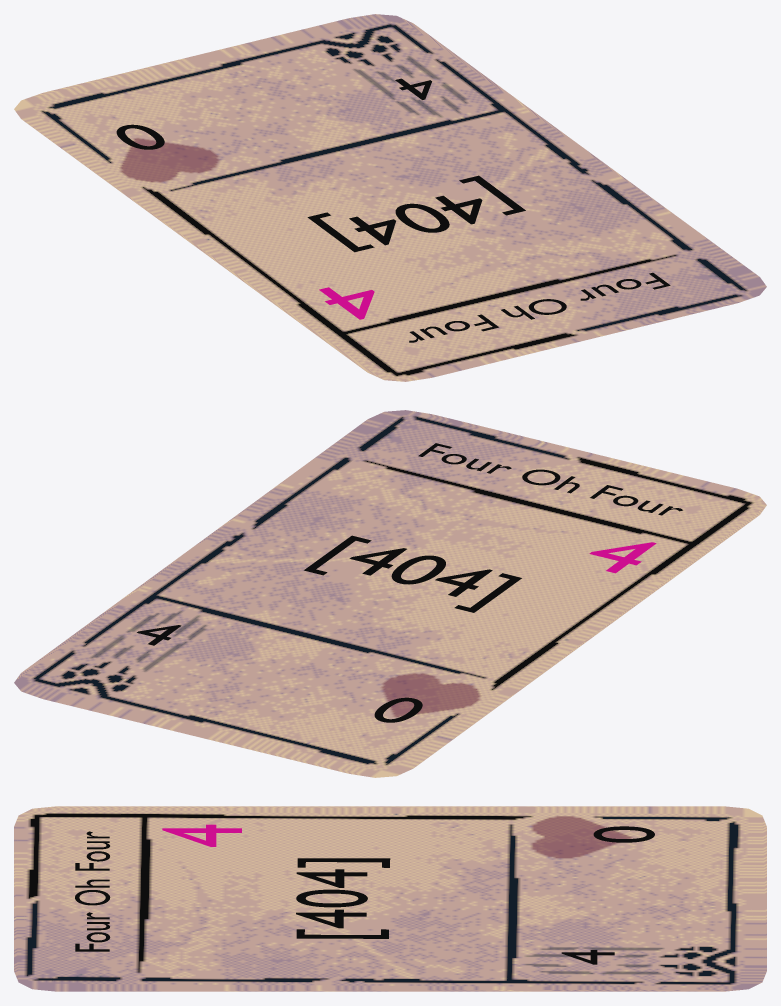
Rendered from FourOhFour.glb.
3 renders of one model, top to bottom at view 1: azimuth 30°, elevation 25°; view 2: azimuth 150°, elevation 25°; view 3: azimuth 270°, elevation 25°, orthographic. The views are drawn at different scales.
Visible parts, largest first — view 1: FourOhFour; view 2: FourOhFour; view 3: FourOhFour.
Part boxes in pixels (x1,y1,x2,y2): FourOhFour: [14, 14, 766, 381]; FourOhFour: [14, 410, 766, 777]; FourOhFour: [14, 806, 766, 991].
Size of what is drawn, in the model's own units: 44.93 by 0.4028 by 77.22.
5 materials, 1 textured.
